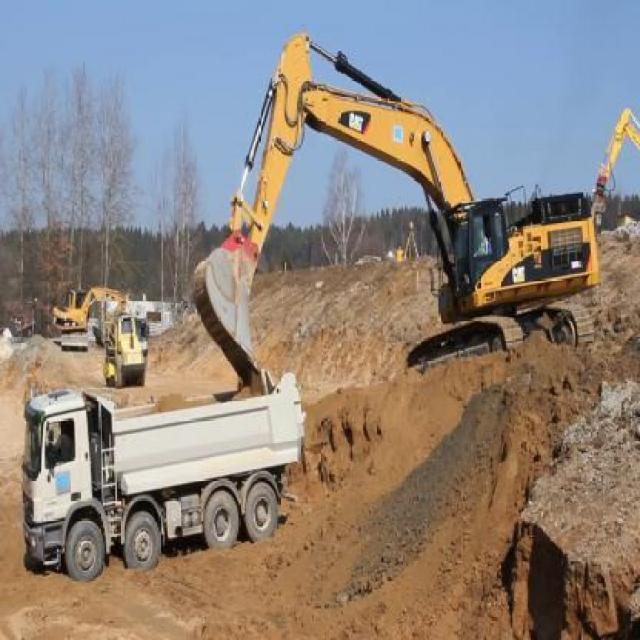Dump Truck: (22, 368, 306, 583), (132, 315, 150, 367)
Excavator: (192, 24, 599, 388), (590, 104, 638, 230), (52, 286, 128, 352)
